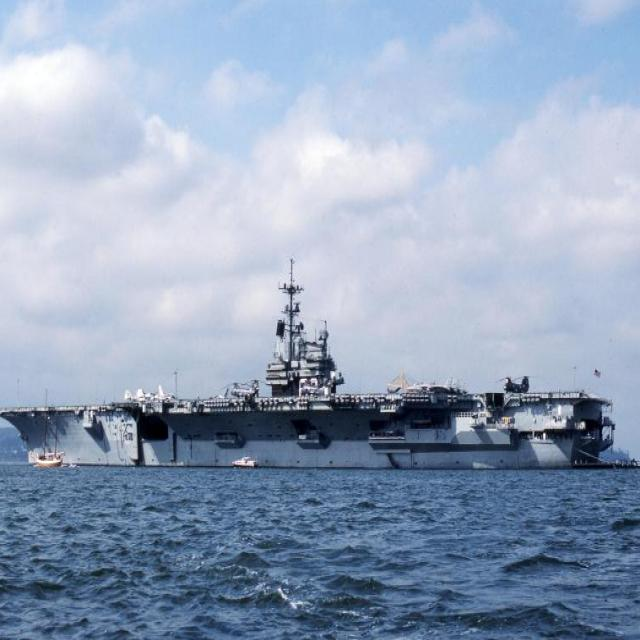Portanaves: (1, 229, 618, 483)
